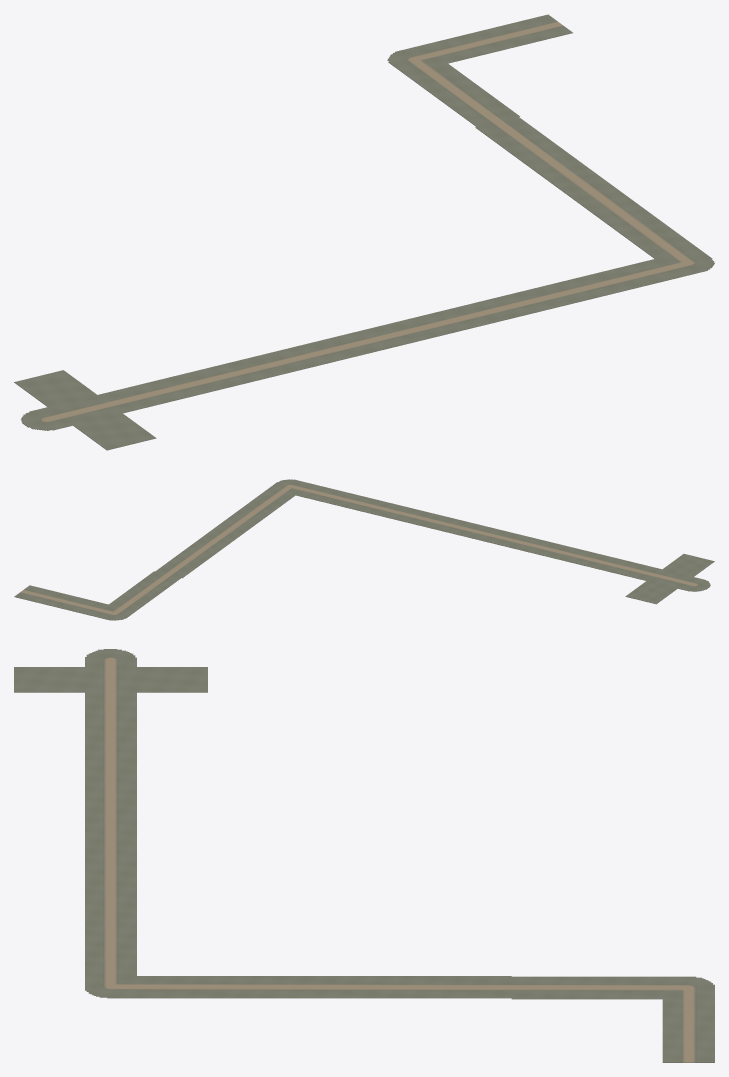
File: route-corridor.glb
3 renders of one model, top to bottom at view 1: azimuth 30°, elevation 25°; view 2: azimuth 150°, elevation 25°; view 3: azimuth 270°, elevation 25°, orthographic. The views are drawn at different scales.
Parts seen in each view (by area): view 1: C_route_corridor_closed; view 2: C_route_corridor_closed; view 3: C_route_corridor_closed.
Boxes of the visible parts, <box> form: C_route_corridor_closed: <box>14,14,714,450</box>; C_route_corridor_closed: <box>14,479,714,620</box>; C_route_corridor_closed: <box>14,649,714,1062</box>.
Bounding box in the file's own units: 525 × 0.21 × 376.
